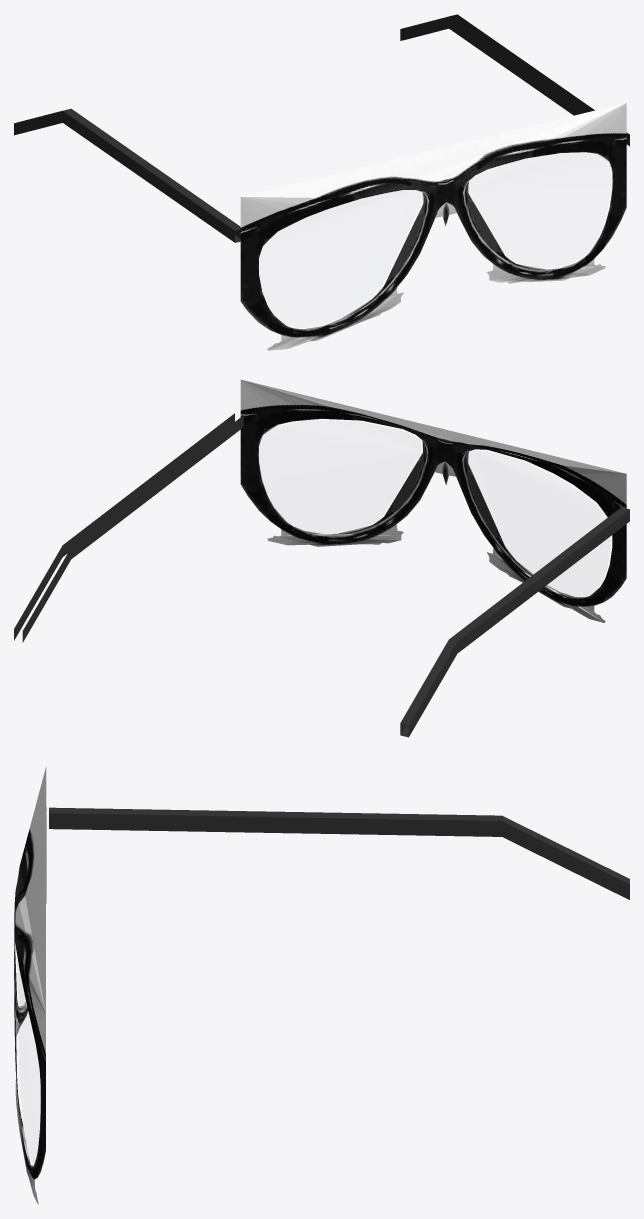
Rendered from gothamstyle-248_black.glb.
3 views of the same model, one above another, from view 1: azimuth 30°, elevation 25°; view 2: azimuth 150°, elevation 25°; view 3: azimuth 270°, elevation 25° (orthographic). The views are drawn at different scales.
Parts seen in each view (by area): view 1: frame_front, temple_viewer_left, temple_viewer_right; view 2: frame_front, temple_viewer_left, temple_viewer_right; view 3: temple_viewer_left, frame_front.
Part boxes in pixels (bbox=[...]): frame_front: bbox=[240, 103, 626, 350]; temple_viewer_left: bbox=[14, 108, 240, 242]; temple_viewer_right: bbox=[400, 14, 629, 146]; frame_front: bbox=[240, 379, 626, 622]; temple_viewer_left: bbox=[400, 507, 629, 737]; temple_viewer_right: bbox=[14, 413, 243, 642]; temple_viewer_left: bbox=[49, 807, 629, 899]; frame_front: bbox=[14, 766, 46, 1204].
Bounding box in the file's own units: 0.1371 × 0.0528 × 0.141.
3 materials, 2 textured.
